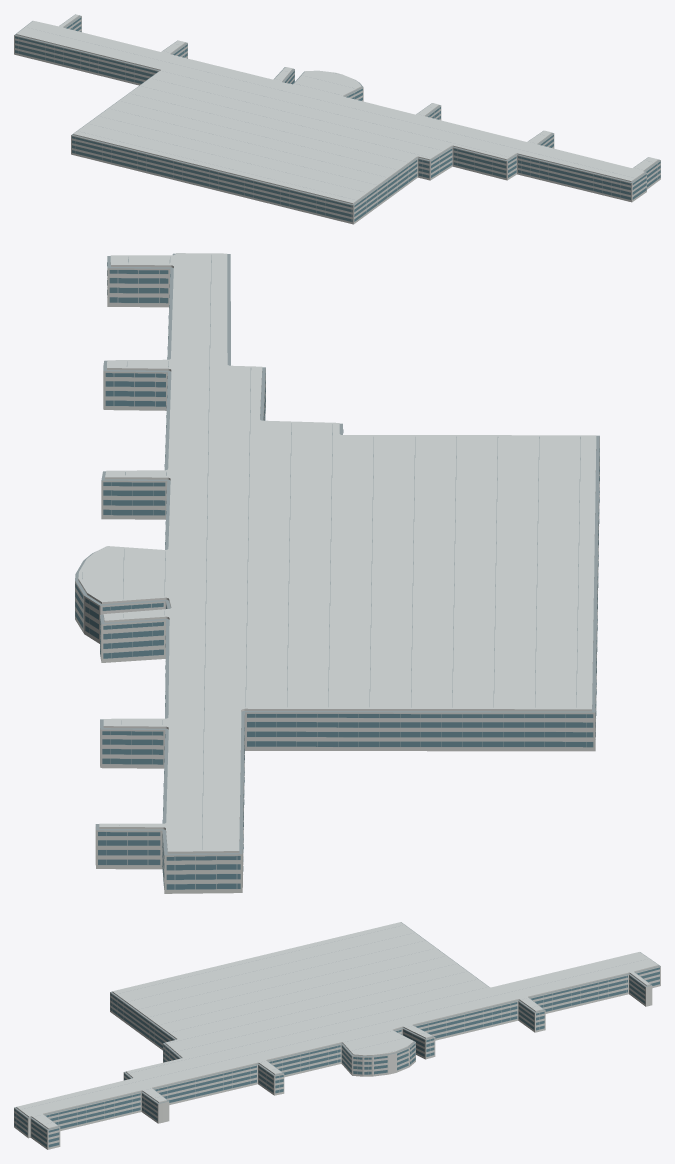
3 renders of one model, top to bottom at view 1: azimuth 30°, elevation 25°; view 2: azimuth 150°, elevation 25°; view 3: azimuth 270°, elevation 25°, orthographic. The views are drawn at different scales.
Parts seen in each view (by area): view 1: fukuoka-airport-international-terminal; view 2: fukuoka-airport-international-terminal; view 3: fukuoka-airport-international-terminal.
Part boxes in pixels (x1=…): fukuoka-airport-international-terminal: x1=14, y1=14, x2=660, y2=224; fukuoka-airport-international-terminal: x1=75, y1=253, x2=599, y2=893; fukuoka-airport-international-terminal: x1=14, y1=922, x2=660, y2=1149.
Size of the model in its own units: 280 by 13.04 by 367.
